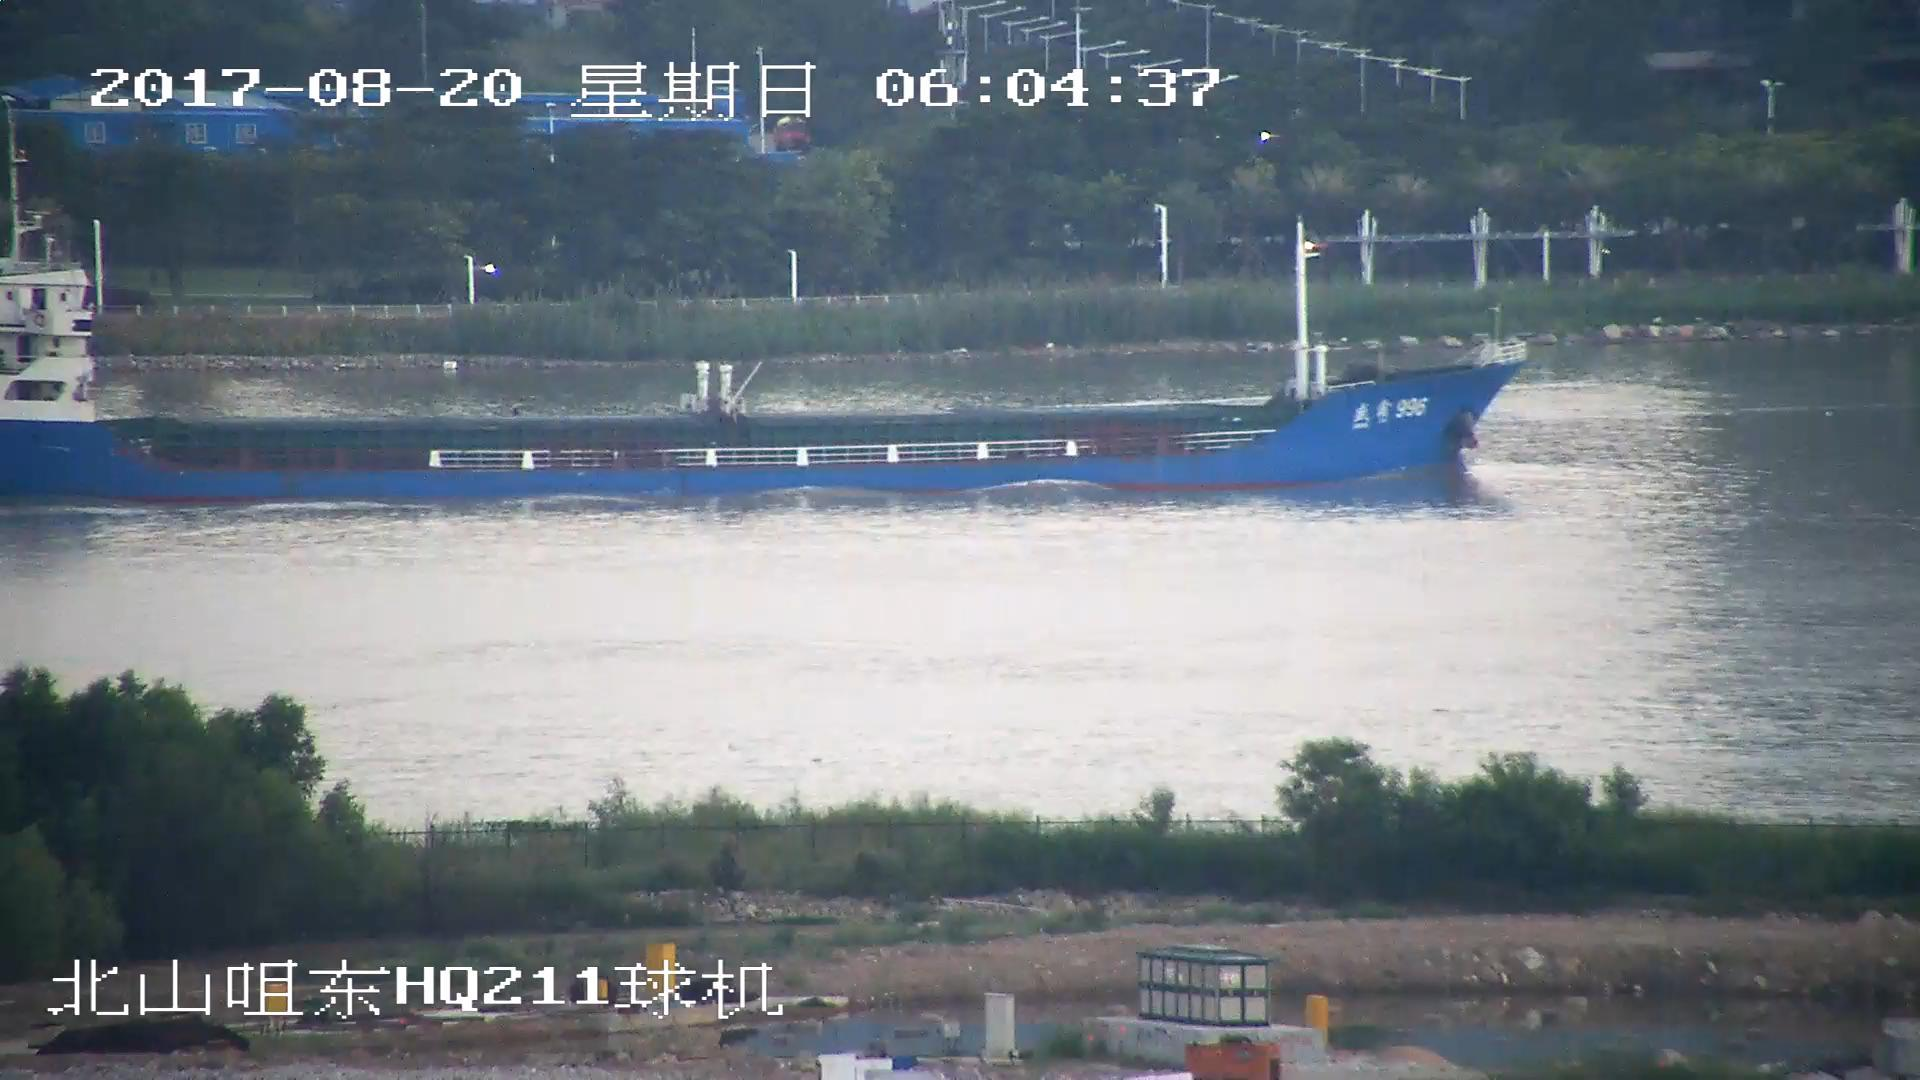Ship: (3, 255, 1510, 502)
